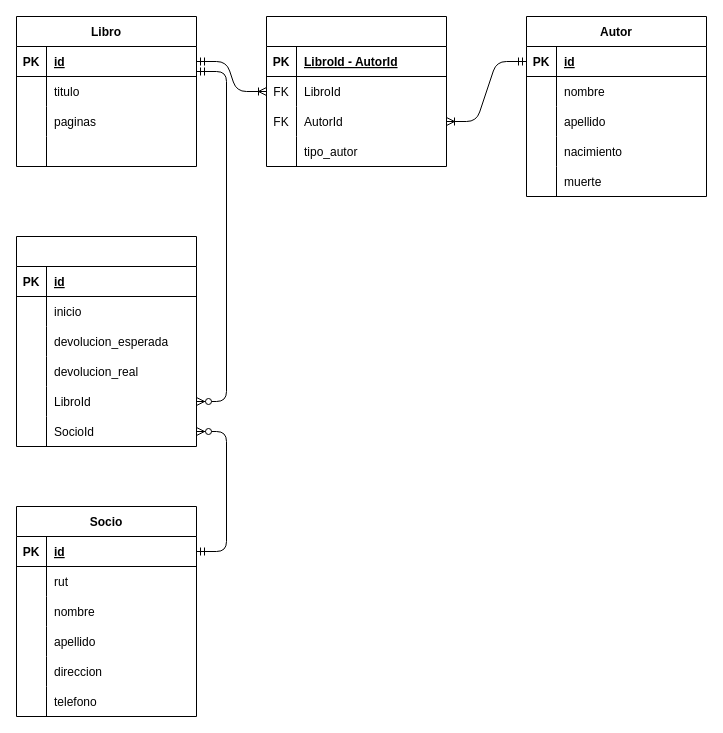
This 723x733 diagram has some shape labels left out. Here are the shapes that lost their labels. From the top down, the box of each, then its label:
(266, 16, 446, 166): Libro-Autor
(16, 236, 196, 446): Prestamo
